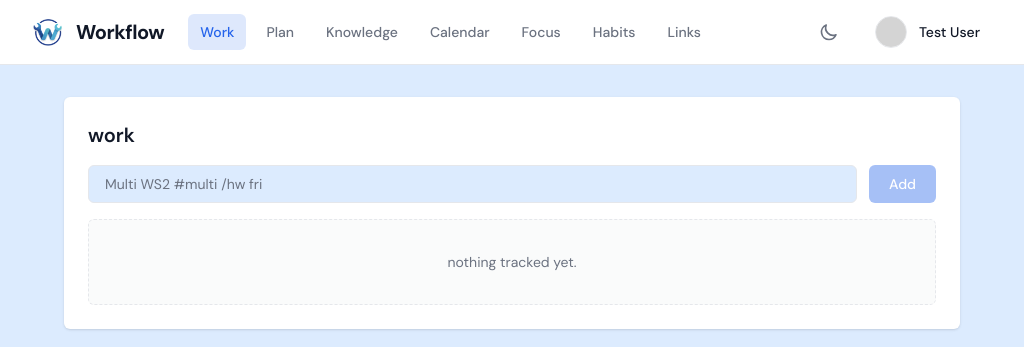
Test: App component › when user is authenticated › displays user email in dropdown
This screenshot has width=1024, height=347.
Expected: the text "Test User" is shown, [919, 22, 980, 42]
Click the button "Test User".
click(932, 32)  # box [871, 12, 992, 52]
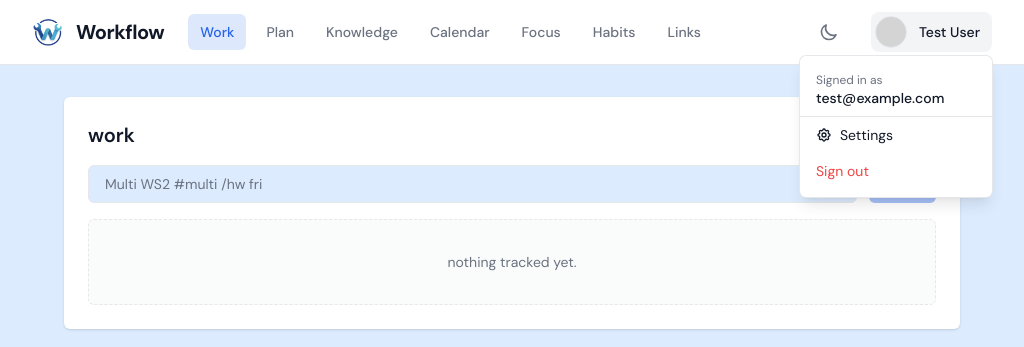
Now the text "test@example.com" is shown, box [816, 89, 944, 107]
